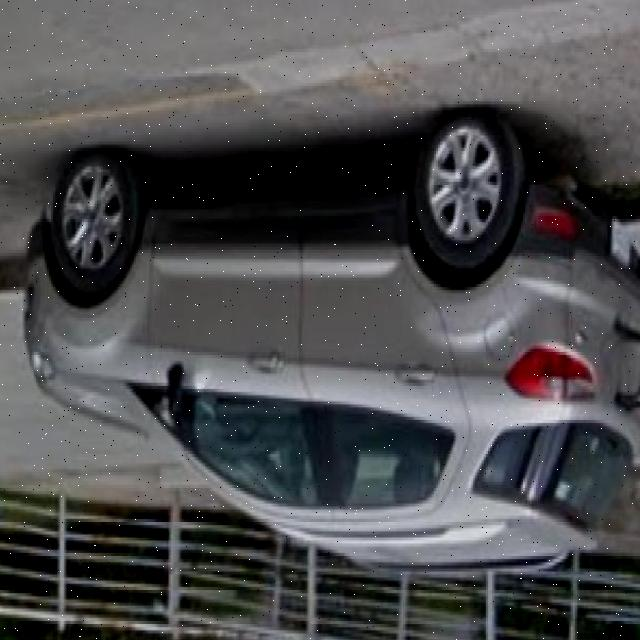car: (23, 114, 640, 578)
